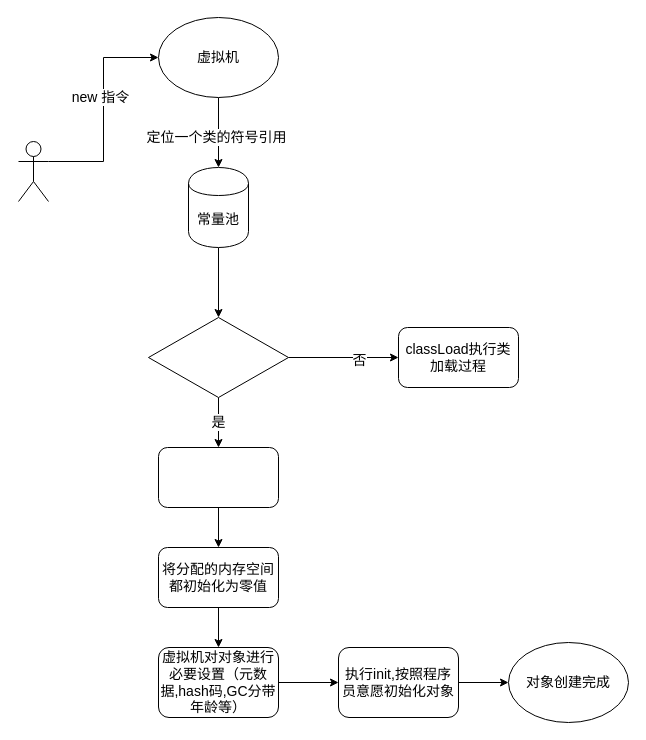
The diagram is 646 pixels wide and 740 high, and some of its shapes have lost their labels. Here are the shapes that lost their labels. From the top down, the box of each, then its label:
(18, 140, 48, 202): Actor
(148, 316, 288, 398): 符号引用代表的类是否被加载,解析是初始化过
(158, 446, 278, 508): 为对象分配内存
